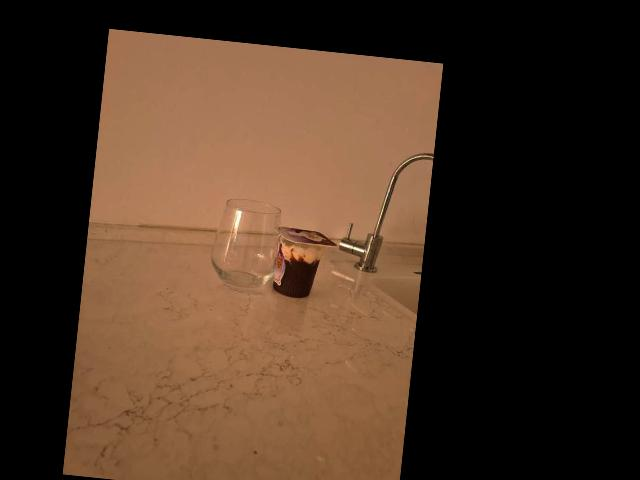milky: (265, 225, 329, 298)
